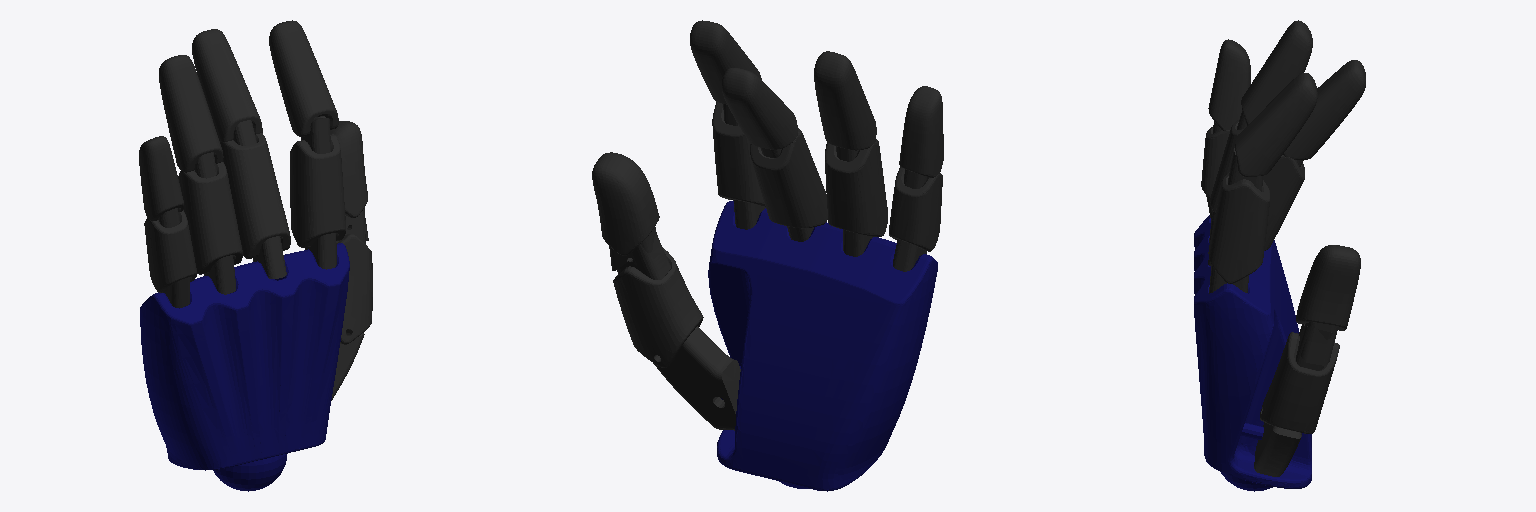
robot.urdf — hand:
<robot name="hand">

*************HAND BASE***************
  <link name="hand_base">
    <visual>
      <geometry>
        <mesh filename="package://hand_description/meshes/hand_base.STL" scale = ".001 .001 .001"/>
      </geometry>
      <origin xyz = "0.09 0.046 0.195" rpy = "0 1.57 3.14"/>
      <material name="blue">
        <color rgba=".1 .1 .4 1"/>
      </material>
    </visual>
  </link>

*************THUMB***************

  <link name="thumb_base">
    <visual>
      <geometry>
        <mesh filename="package://hand_description/meshes/thumb_base.STL" scale = ".001 .001 .001"/>
      </geometry>
      <origin xyz = "0.0625 0.046 0.1606" rpy = "0.785 1.57 3.925"/>
      <material name="grey">
        <color rgba=".2 .2 .2 1"/>
      </material>
    </visual>
  </link>

  <joint name="thumba" type="revolute">
    <axis xyz="0 -1 0"/>
    <limit effort="1000.0" lower="0" upper="0.1" velocity="0.5"/>
    <parent link="hand_base"/>
    <child link="thumb_base"/>
    <origin xyz="0.0275 0 0.0344"/>
    <joint_properties damping="1.0" friction="0.0"/>
  </joint>

  <link name="thumb_middle">
    <visual>
      <geometry>
        <mesh filename="package://hand_description/meshes/thumb_middle.STL" scale = ".001 .001 .001"/>
      </geometry>
      <origin xyz = "0.043 0.046 0.1442" rpy = "0.785 1.57 3.925"/>
      <material name="grey">
        <color rgba=".2 .2 .2 1"/>
      </material>
    </visual>
  </link>

  <joint name="thumbb" type="fixed">
    <parent link="thumb_base"/>
    <child link="thumb_middle"/>
    <origin xyz="0.0195 0 0.0164"/>
  </joint>

  <link name="thumb_tip">
    <visual>
      <geometry>
        <mesh filename="package://hand_description/meshes/thumb_tip.STL" scale = ".001 .001 .001"/>
      </geometry>
      <origin xyz = "0.037 0.046 0.1062" rpy = "0.785 1.57 3.925"/>
      <material name="grey">
        <color rgba=".2 .2 .2 1"/>
      </material>
    </visual>
  </link>

  <joint name="thumbc" type="revolute">
    <axis xyz="0 -1 0"/>
    <limit effort="1000.0" lower="-0.6" upper="-0.31" velocity="0.5"/>
    <parent link="thumb_middle"/>
    <child link="thumb_tip"/>
    <origin xyz="0.006 0 0.038"/>
    <joint_properties damping="1.0" friction="0.0"/>
  </joint>

  *************FINGER1***************

  <link name="finger1_middle">
    <visual>
      <geometry>
        <mesh filename="package://hand_description/meshes/finger1_middle.STL" scale = ".001 .001 .001"/>
      </geometry>
      <origin xyz = "0.045 0.056 0.1025" rpy = "0.785 1.57 3.925"/>
      <material name="grey">
        <color rgba=".2 .2 .2 1"/>
      </material>
    </visual>
  </link>

  <joint name="finger1a" type="revolute">
    <axis xyz="-1 0 0"/>
    <limit effort="1000.0" lower="-0.15" upper="0.96" velocity="0.5"/>
    <parent link="hand_base"/>
    <child link="finger1_middle"/>
    <origin xyz="0.045 -0.01 0.0925"/>
    <joint_properties damping="1.0" friction="0.0"/>
  </joint>

  <link name="finger1_tip">
    <visual>
      <geometry>
        <mesh filename="package://hand_description/meshes/finger1_tip.STL" scale = ".001 .001 .001"/>
      </geometry>
      <origin xyz = "0.045 0.0485 0.047" rpy = "0.785 1.57 3.925"/>
      <material name="grey">
        <color rgba=".2 .2 .2 1"/>
      </material>
    </visual>
  </link>

  <joint name="finger1b" type="revolute">
    <axis xyz="-1 0 0"/>
    <limit effort="1000.0" lower="-2.0" upper="-0.89" velocity="0.5"/>
    <parent link="finger1_middle"/>
    <child link="finger1_tip"/>
    <origin xyz="0 0.0075 0.0555"/>
    <joint_properties damping="1.0" friction="0.0"/>
  </joint>

  *************FINGER2***************

  <link name="finger2_middle">
    <visual>
      <geometry>
        <mesh filename="package://hand_description/meshes/finger2_middle.STL" scale = ".001 .001 .001"/>
      </geometry>
      <origin xyz = "0.045 0.056 0.1025" rpy = "0.785 1.57 3.925"/>
      <material name="grey">
        <color rgba=".2 .2 .2 1"/>
      </material>
    </visual>
  </link>

  <joint name="finger2a" type="revolute">
    <axis xyz="-1 0 0"/>
    <limit effort="1000.0" lower="-0.44" upper="0.67" velocity="0.5"/>
    <parent link="hand_base"/>
    <child link="finger2_middle"/>
    <origin xyz="0.045 -0.01 0.0925"/>
    <joint_properties damping="1.0" friction="0.0"/>
  </joint>

  <link name="finger2_tip">
    <visual>
      <geometry>
        <mesh filename="package://hand_description/meshes/finger2_tip.STL" scale = ".001 .001 .001"/>
      </geometry>
      <origin xyz = "0.045 0.0315 0.052" rpy = "0.785 1.57 3.925"/>
      <material name="grey">
        <color rgba=".2 .2 .2 1"/>
      </material>
    </visual>
  </link>

  <joint name="finger2b" type="revolute">
    <axis xyz="-1 0 0"/>
    <limit effort="1000.0" lower="-0.31" upper="0.8" velocity="0.5"/>
    <parent link="finger2_middle"/>
    <child link="finger2_tip"/>
    <origin xyz="0 0.0245 0.0505"/>
    <joint_properties damping="1.0" friction="0.0"/>
  </joint>

  *************FINGER3***************

  <link name="finger3_middle">
    <visual>
      <geometry>
        <mesh filename="package://hand_description/meshes/finger3_middle.STL" scale = ".001 .001 .001"/>
      </geometry>
      <origin xyz = "0.045 0.056 0.1025" rpy = "0.785 1.57 3.925"/>
      <material name="grey">
        <color rgba=".2 .2 .2 1"/>
      </material>
    </visual>
  </link>

  <joint name="finger3a" type="revolute">
    <axis xyz="-1 0 0"/>
    <limit effort="1000.0" lower="-0.23" upper="0.88" velocity="0.5"/>
    <parent link="hand_base"/>
    <child link="finger3_middle"/>
    <origin xyz="0.045 -0.01 0.0925"/>
    <joint_properties damping="1.0" friction="0.0"/>
  </joint>

  <link name="finger3_tip">
    <visual>
      <geometry>
        <mesh filename="package://hand_description/meshes/finger3_tip.STL" scale = ".001 .001 .001"/>
      </geometry>
      <origin xyz = "0.045 0.046 0.0525" rpy = "0.785 1.57 3.925"/>
      <material name="grey">
        <color rgba=".2 .2 .2 1"/>
      </material>
    </visual>
  </link>

  <joint name="finger3b" type="revolute">
    <axis xyz="-1 0 0"/>
    <limit effort="1000.0" lower="-0.23" upper="0.88" velocity="0.5"/>
    <parent link="finger3_middle"/>
    <child link="finger3_tip"/>
    <origin xyz="0 0.01 0.05"/>
    <joint_properties damping="1.0" friction="0.0"/>
  </joint>

  *************FINGER4***************

  <link name="finger4_middle">
    <visual>
      <geometry>
        <mesh filename="package://hand_description/meshes/finger4_middle.STL" scale = ".001 .001 .001"/>
      </geometry>
      <origin xyz = "0.045 0.056 0.1025" rpy = "0.785 1.57 3.925"/>
      <material name="grey">
        <color rgba=".2 .2 .2 1"/>
      </material>
    </visual>
  </link>

  <joint name="finger4a" type="revolute">
    <axis xyz="-1 0 0"/>
    <limit effort="1000.0" lower="-0.03" upper="1.08" velocity="0.5"/>
    <parent link="hand_base"/>
    <child link="finger4_middle"/>
    <origin xyz="0.045 -0.01 0.0925"/>
    <joint_properties damping="1.0" friction="0.0"/>
  </joint>

  <link name="finger4_tip">
    <visual>
      <geometry>
        <mesh filename="package://hand_description/meshes/finger4_tip.STL" scale = ".001 .001 .001"/>
      </geometry>
      <origin xyz = "0.045 0.056 0.0625" rpy = "0.785 1.57 3.925"/>
      <material name="grey">
        <color rgba=".2 .2 .2 1"/>
      </material>
    </visual>
  </link>

  <joint name="finger4b" type="revolute">
    <axis xyz="-1 0 0"/>
    <limit effort="1000.0" lower="-0.09" upper="1.02" velocity="0.5"/>
    <parent link="finger4_middle"/>
    <child link="finger4_tip"/>
    <origin xyz="0 0 0.04"/>
    <joint_properties damping="1.0" friction="0.0"/>
  </joint>

</robot>

--- Render facts (derived) ---
3 views of the same robot in one strip: view 1: azimuth 30°, elevation 25°; view 2: azimuth 150°, elevation 25°; view 3: azimuth 270°, elevation 25° (orthographic).
Model hand with 12 links and 11 joints (10 revolute, 1 fixed), rooted at hand_base, posed joints at zero except 2 at the middle of their limits (thumbc = -0.455, finger1b = -1.45).
Links seen in each view (by area): view 1: hand_base, finger2_middle, finger1_middle, finger3_middle, finger1_tip, finger3_tip, finger2_tip, finger4_middle, thumb_middle, finger4_tip, thumb_tip, thumb_base; view 2: hand_base, thumb_middle, finger3_middle, thumb_tip, finger2_middle, thumb_base, finger3_tip, finger4_middle, finger2_tip, finger1_middle, finger4_tip, finger1_tip; view 3: hand_base, finger1_middle, thumb_tip, thumb_middle, finger1_tip, finger2_tip, finger3_tip, finger4_tip, finger2_middle, thumb_base, finger4_middle, finger3_middle.
Link boxes in pixels (left/top/right/bottom): hand_base: left=140, top=243, right=349, bottom=491; finger2_middle: left=220, top=120, right=290, bottom=278; finger1_middle: left=290, top=117, right=345, bottom=269; finger3_middle: left=178, top=152, right=242, bottom=294; finger1_tip: left=269, top=20, right=338, bottom=136; finger3_tip: left=159, top=55, right=223, bottom=172; finger2_tip: left=192, top=29, right=262, bottom=141; finger4_middle: left=144, top=208, right=196, bottom=307; thumb_middle: left=337, top=207, right=372, bottom=344; finger4_tip: left=139, top=136, right=183, bottom=220; thumb_tip: left=330, top=121, right=368, bottom=242; thumb_base: left=331, top=333, right=364, bottom=400; hand_base: left=708, top=201, right=937, bottom=491; thumb_middle: left=613, top=234, right=703, bottom=367; finger3_middle: left=825, top=139, right=887, bottom=256; thumb_tip: left=592, top=152, right=659, bottom=270; finger2_middle: left=750, top=128, right=827, bottom=241; thumb_base: left=653, top=326, right=740, bottom=430; finger3_tip: left=814, top=51, right=876, bottom=150; finger4_middle: left=889, top=167, right=942, bottom=271; finger2_tip: left=722, top=68, right=797, bottom=149; finger1_middle: left=712, top=102, right=765, bottom=229; finger4_tip: left=899, top=86, right=943, bottom=177; finger1_tip: left=690, top=20, right=761, bottom=104; hand_base: left=1194, top=215, right=1311, bottom=491; finger1_middle: left=1208, top=148, right=1269, bottom=293; thumb_tip: left=1296, top=245, right=1360, bottom=365; thumb_middle: left=1260, top=324, right=1339, bottom=433; finger1_tip: left=1235, top=73, right=1317, bottom=176; finger2_tip: left=1283, top=60, right=1365, bottom=159; finger3_tip: left=1241, top=20, right=1312, bottom=125; finger4_tip: left=1208, top=39, right=1250, bottom=130; finger2_middle: left=1208, top=155, right=1304, bottom=265; thumb_base: left=1254, top=422, right=1301, bottom=476; finger4_middle: left=1201, top=121, right=1229, bottom=218; finger3_middle: left=1209, top=111, right=1246, bottom=242.
Size in the robot's own frame: 0.1154 by 0.0632 by 0.1789 metres.
12 mesh visuals loaded from 12 distinct referenced files (12 binary STL).